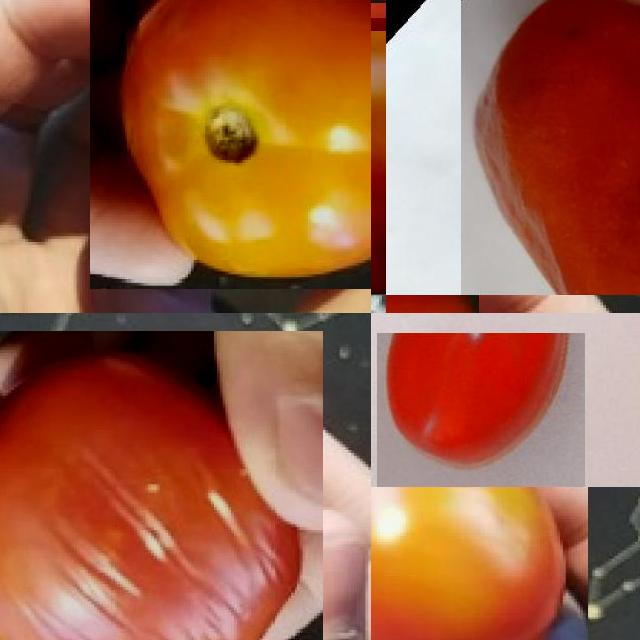0: (90, 0, 371, 289)
1: (0, 331, 323, 640)
Fresh Tomato: (371, 487, 587, 640), (377, 333, 585, 487)
Rotten Tomato: (460, 0, 640, 295)
